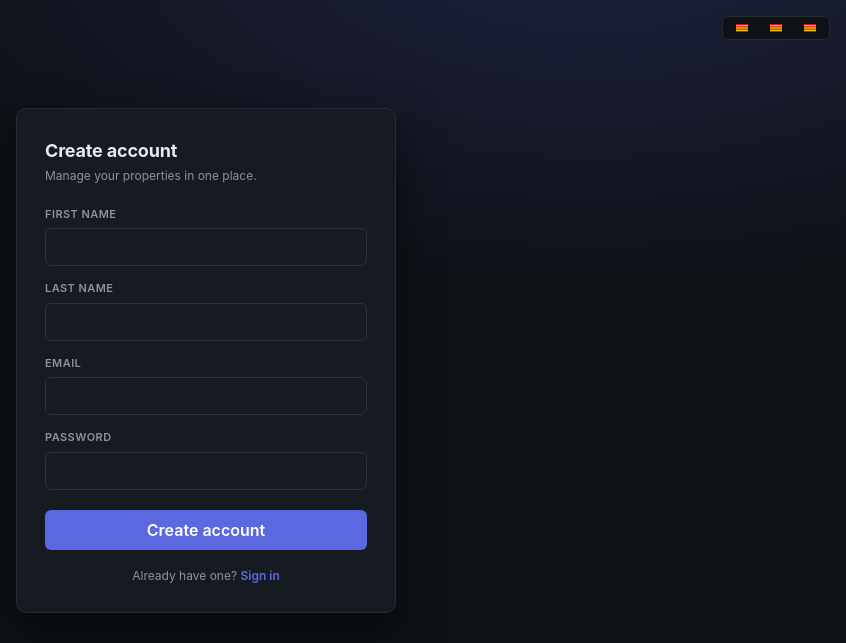
Test: Signup › surfaces the error message on a 409 conflict
The image size is (846, 643).
Type "taken@acme.com" into the field labelled "Email" at {"x": 206, "y": 396}, box [45, 377, 367, 415]
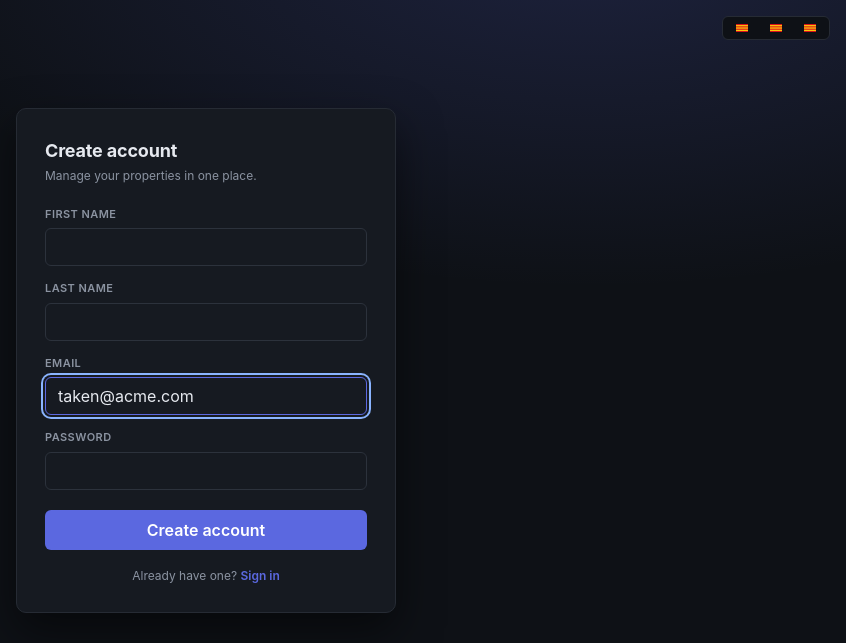
Type "hunter2!!" into the password field labelled "Password" at {"x": 206, "y": 470}, box [45, 452, 367, 490]
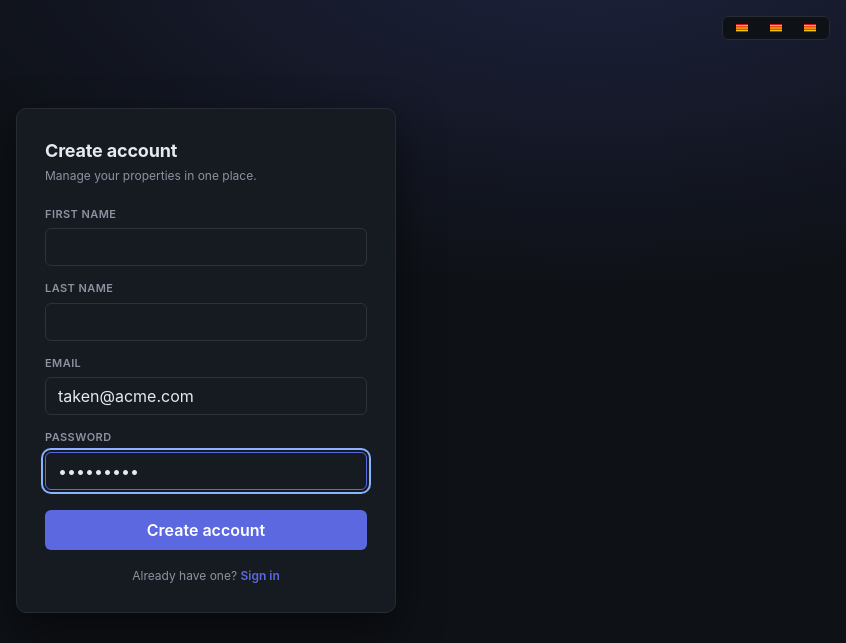
Click the button "Create account" at {"x": 206, "y": 530}, box [45, 510, 367, 550]
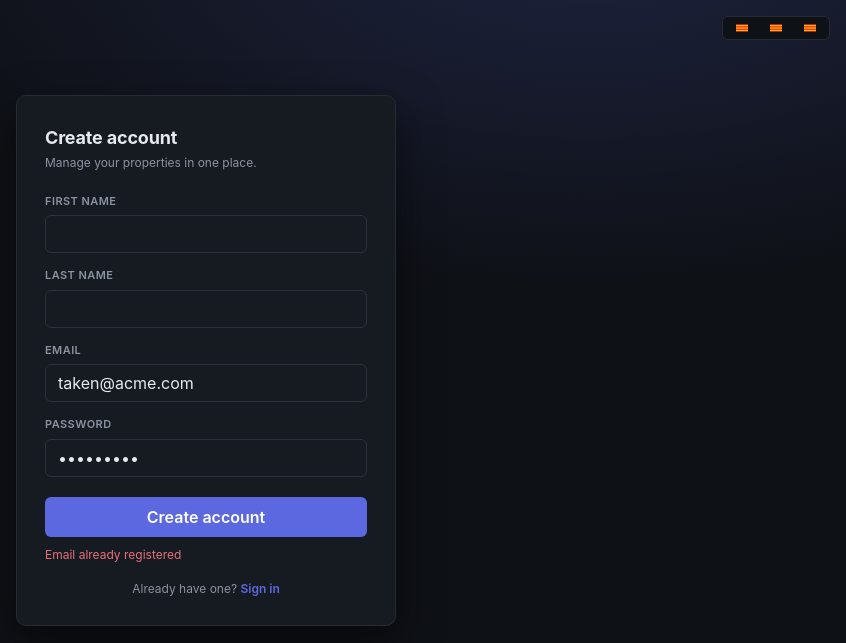
Now the text "Email already registered" is shown, box [45, 546, 181, 562]
